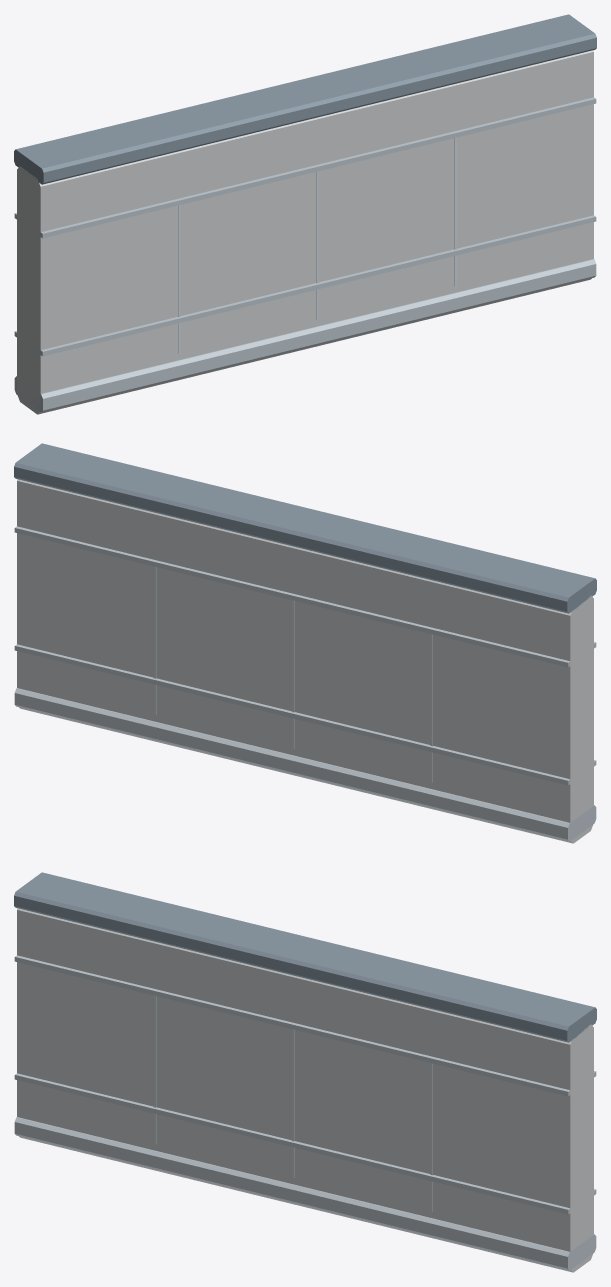
The model's file is wall_hospital_imaging.glb.
3 views of the same model, one above another, from view 1: azimuth 30°, elevation 25°; view 2: azimuth 150°, elevation 25°; view 3: azimuth 330°, elevation 25° (orthographic).
Parts seen in each view (by area): view 1: Part_001, Part_002, Part_003, Part_011, Part_013, Part_009; view 2: Part_001, Part_002, Part_003, Part_010, Part_012, Part_008; view 3: Part_001, Part_002, Part_003, Part_011, Part_013, Part_005.
Part boxes in pixels (x1,y1,x2,y2): Part_001: [17, 50, 593, 414]; Part_002: [14, 14, 596, 184]; Part_003: [14, 259, 596, 412]; Part_011: [40, 97, 596, 238]; Part_013: [40, 215, 596, 356]; Part_009: [454, 137, 457, 286]; Part_001: [17, 479, 593, 843]; Part_002: [14, 443, 596, 613]; Part_003: [14, 688, 596, 841]; Part_010: [14, 526, 570, 667]; Part_012: [14, 644, 570, 785]; Part_008: [153, 566, 156, 715]; Part_001: [17, 908, 593, 1272]; Part_002: [14, 872, 596, 1042]; Part_003: [14, 1117, 596, 1270]; Part_011: [14, 955, 570, 1096]; Part_013: [14, 1073, 570, 1214]; Part_005: [153, 995, 156, 1144].
Size of the model in its own units: 2.7 by 1.16 by 0.25.
